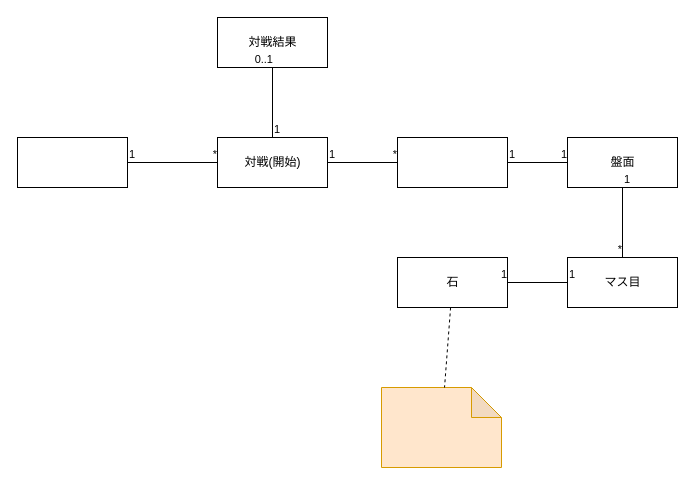
Image size: 695x485. Some labels were removed from this diagram. The shapes that lost their labels are listed below. From the top down, each one's box as (x1, y1, x2, y2) in pixels, then its label:
(16, 136, 128, 188): プレイヤー
(396, 136, 508, 188): ターン
(380, 386, 502, 468): 白と黒がある
